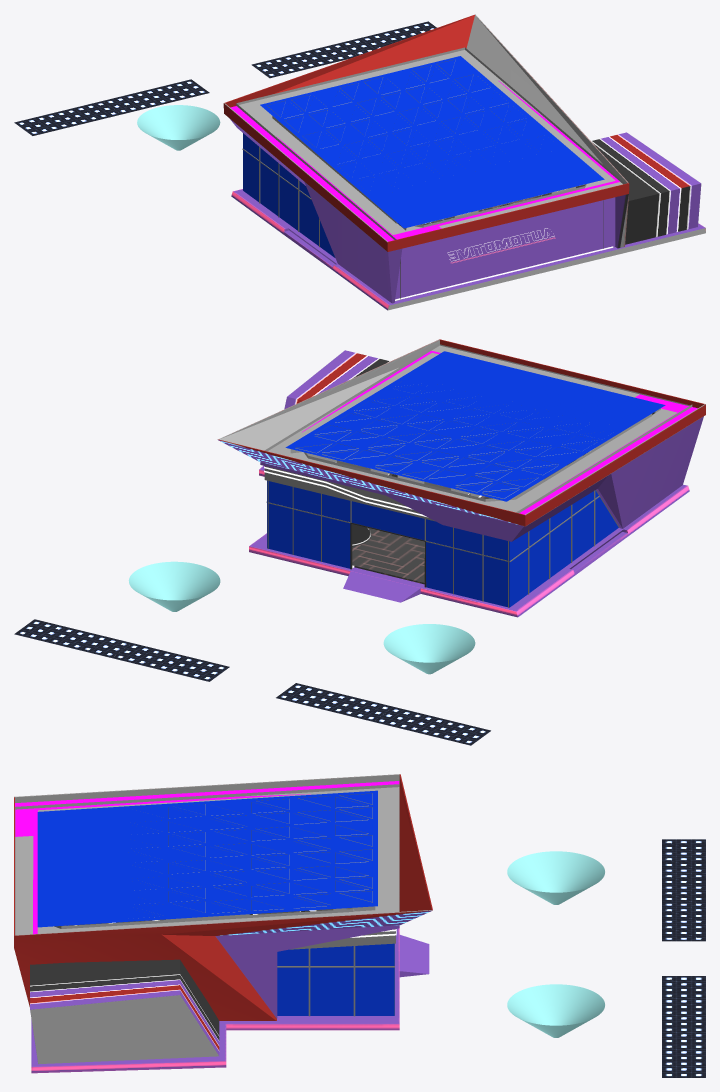
The model's file is Building.glb.
3 renders of one model, top to bottom at view 1: azimuth 30°, elevation 25°; view 2: azimuth 150°, elevation 25°; view 3: azimuth 270°, elevation 25°, orthographic. The views are drawn at different scales.
Visible parts, largest first — view 1: mirror, inside, outside, light_1, Conus_2_Variant, floor__13_, floor__16_, floor__14_, floor__5_, floor__6_, floor__10_, floor__15_ (+3 smaller); view 2: mirror, outside, inside, Conus_2_Variant__1_, Conus_2_Variant, light_1, floor__14_, floor__4_, floor__10_, floor__15_, floor__5_, floor__6_ (+6 smaller); view 3: mirror, outside, inside, Conus_2_Variant, Conus_2_Variant__1_, light_1, floor__10_, floor__13_, floor__14_, floor__15_, floor__16_, floor__17_ (+6 smaller).
Part boxes in pixels (<box>): mirror: <box>243,56,604,257</box>; inside: <box>231,47,705,310</box>; outside: <box>223,14,701,303</box>; light_1: <box>230,80,619,300</box>; Conus_2_Variant: <box>137,105,220,150</box>; floor__13_: <box>103,94,150,114</box>; floor__16_: <box>14,115,61,135</box>; floor__14_: <box>132,86,179,107</box>; floor__5_: <box>281,50,328,70</box>; floor__6_: <box>251,57,298,78</box>; floor__10_: <box>73,101,120,121</box>; floor__15_: <box>162,79,209,99</box>; mirror: <box>267,351,665,607</box>; outside: <box>217,339,705,587</box>; inside: <box>249,343,692,617</box>; Conus_2_Variant__1_: <box>128,561,220,611</box>; Conus_2_Variant: <box>383,624,475,674</box>; light_1: <box>264,350,697,568</box>; floor__14_: <box>308,691,360,713</box>; floor__4_: <box>112,643,164,665</box>; floor__10_: <box>373,707,425,729</box>; floor__15_: <box>276,683,327,705</box>; floor__5_: <box>145,651,196,673</box>; floor__6_: <box>177,659,229,681</box>; mirror: <box>37,790,394,1015</box>; outside: <box>14,774,432,1064</box>; inside: <box>15,784,429,1073</box>; Conus_2_Variant: <box>507,851,604,904</box>; Conus_2_Variant__1_: <box>507,984,604,1037</box>; light_1: <box>15,781,399,937</box>; floor__10_: <box>662,873,705,890</box>; floor__13_: <box>662,890,705,907</box>; floor__14_: <box>662,907,705,924</box>; floor__15_: <box>662,924,705,941</box>; floor__16_: <box>662,839,705,856</box>; floor__17_: <box>662,856,705,873</box>.
Bounding box in the file's own units: 70.11 × 18.31 × 85.98.
Materials: 7 (4 with a texture image).
